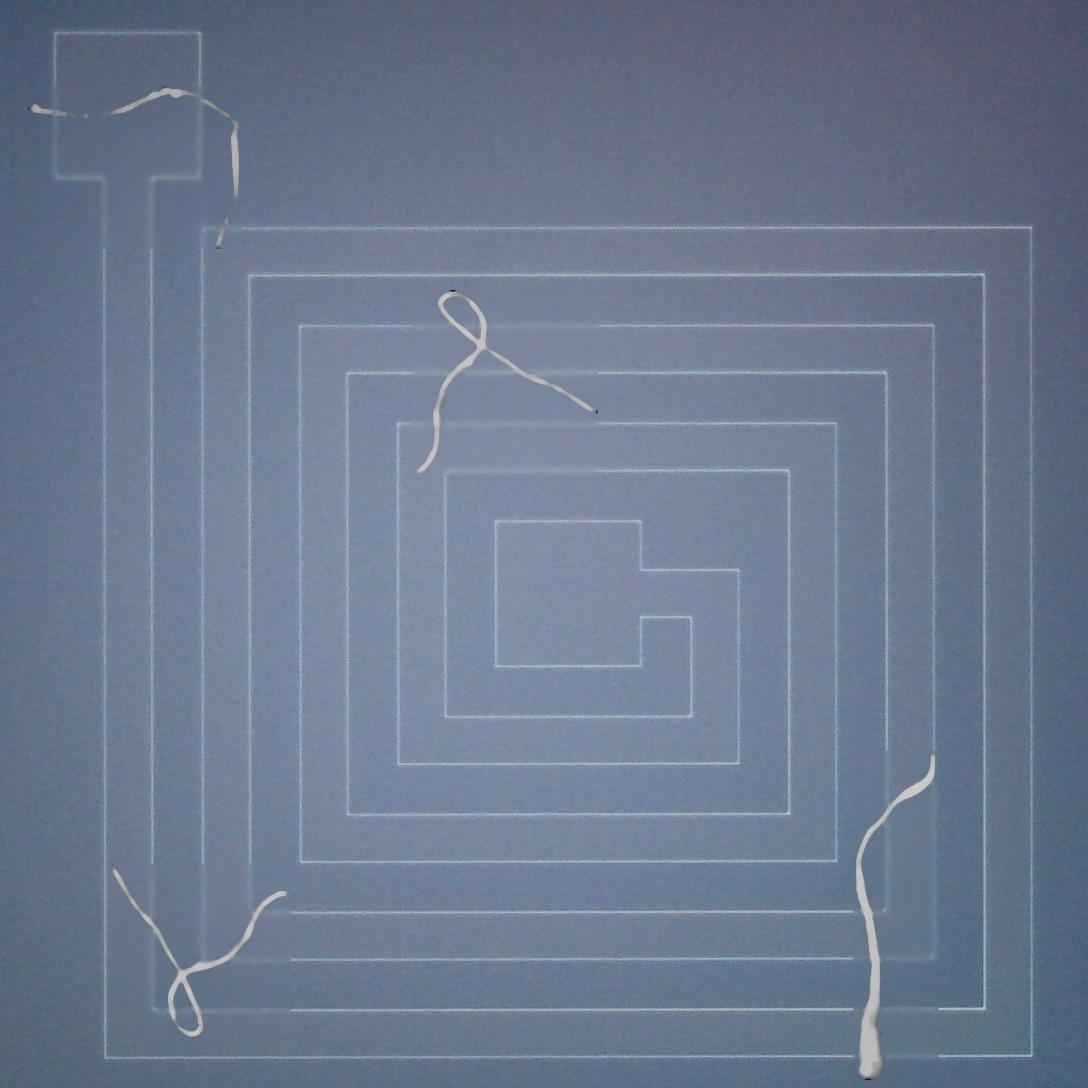foreign: (402, 281, 610, 485), (23, 74, 245, 252), (102, 856, 295, 1041), (841, 746, 946, 1085)
